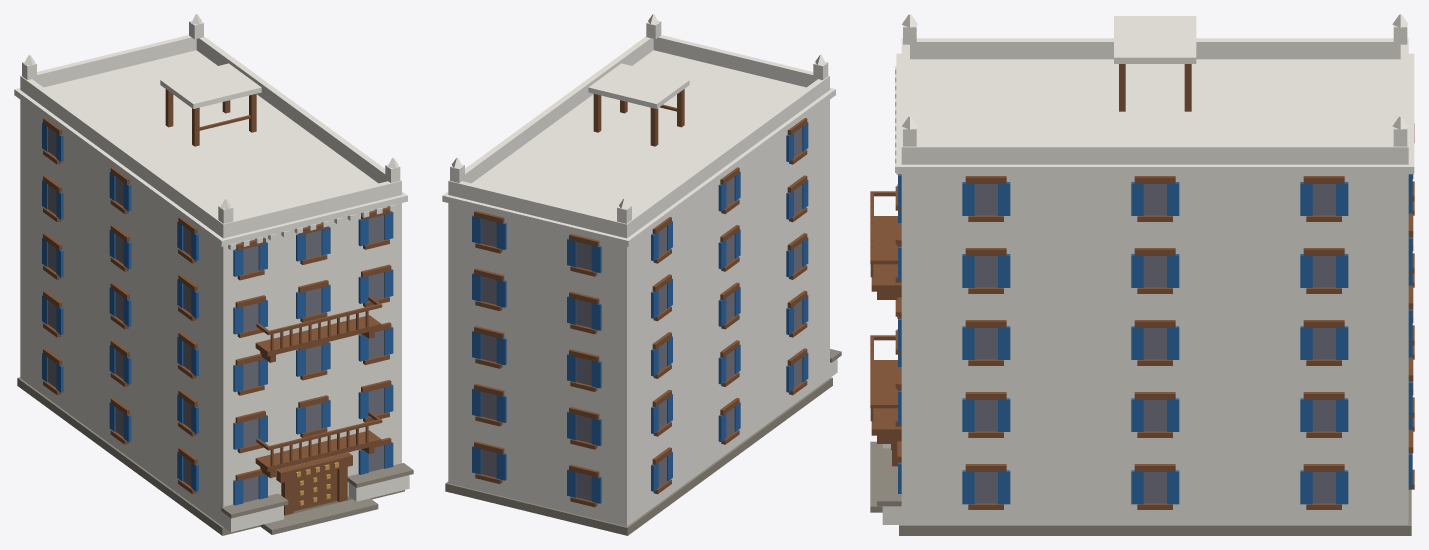
File: house-1x2-5f-swahili-a.glb
3 renders of one model, left to right at view 1: azimuth 30°, elevation 25°; view 2: azimuth 150°, elevation 25°; view 3: azimuth 270°, elevation 25°, orthographic. The views are drawn at different scales.
Visible parts, largest first — view 1: house-1x2-5f-swahili-a; view 2: house-1x2-5f-swahili-a; view 3: house-1x2-5f-swahili-a.
Boxes of the visible parts, box(x1,y1,x2,y2) form: house-1x2-5f-swahili-a: box(14, 14, 413, 535); house-1x2-5f-swahili-a: box(442, 14, 841, 535); house-1x2-5f-swahili-a: box(870, 14, 1414, 535).
Size of the model in its own units: 0.984 by 1.78 by 1.99.
Materials: 1 (1 with a texture image).
